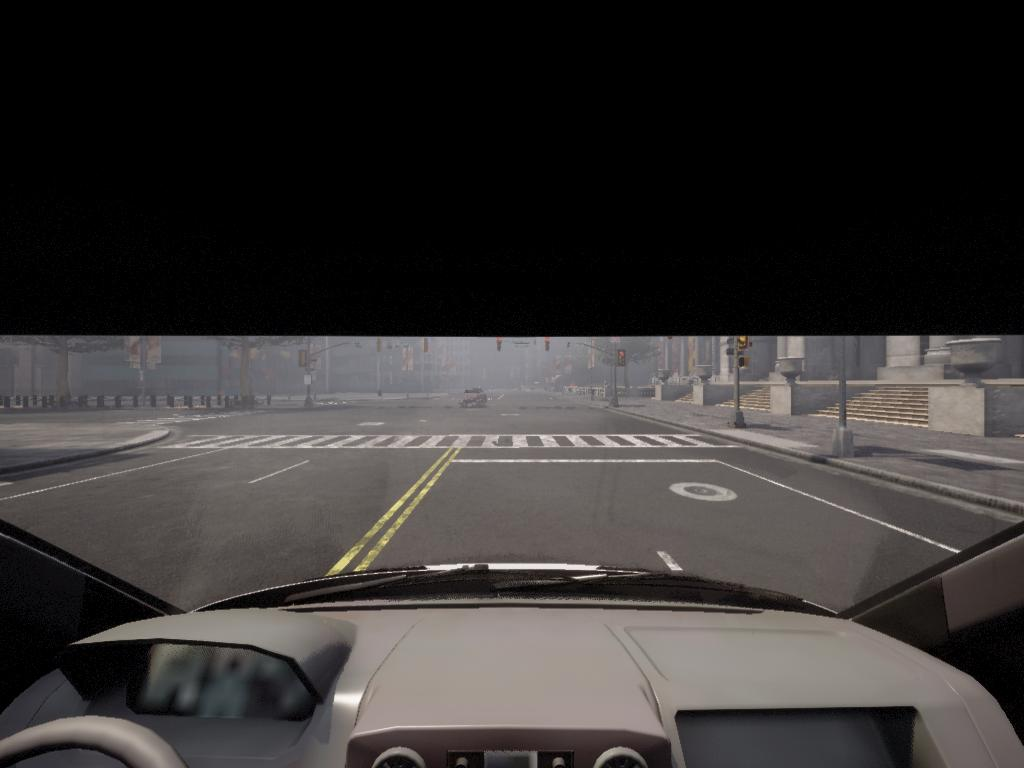traffic_light: (738, 338, 754, 368), (739, 337, 754, 351), (621, 353, 630, 368), (618, 353, 626, 367), (497, 338, 503, 354), (377, 338, 383, 354), (545, 338, 551, 353), (423, 339, 429, 354)
